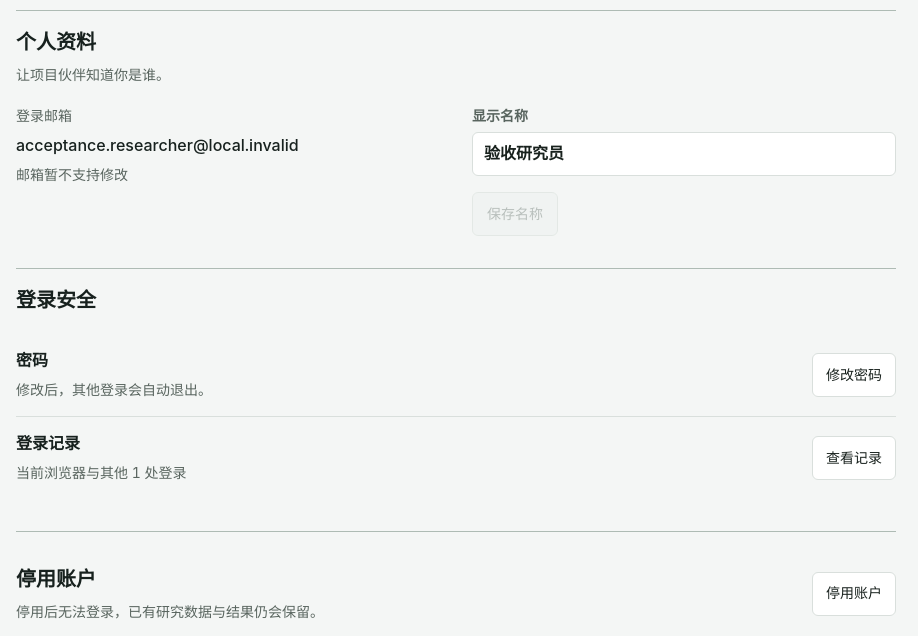
Test case: revokes a non-current session without ending the current session
Click the button "查看记录" at (854, 458), box top-left (812, 436), bottom-right (896, 480)
(page scrolled)
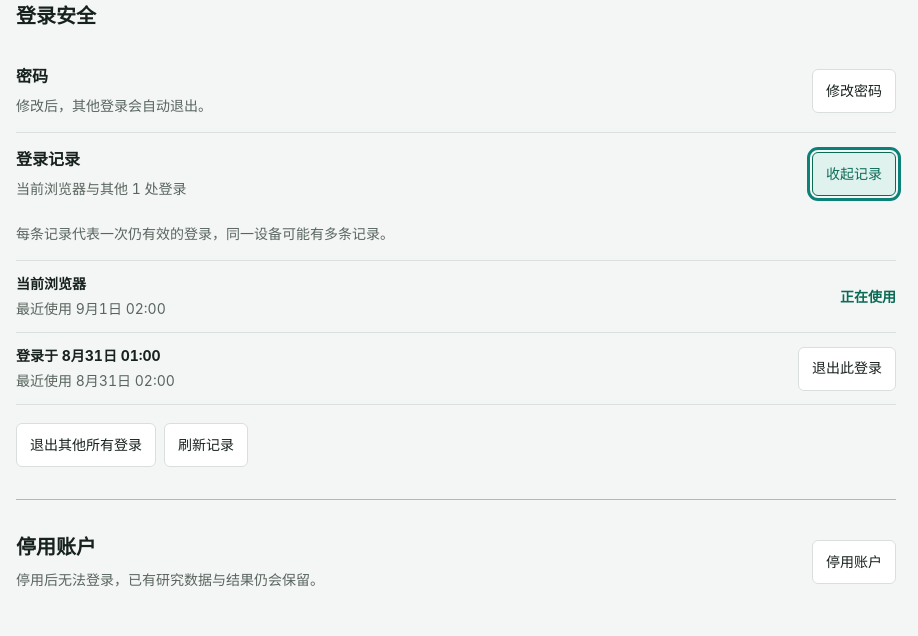
Click the button "退出此登录" at (847, 368), box top-left (798, 346), bottom-right (896, 390)
(page scrolled)
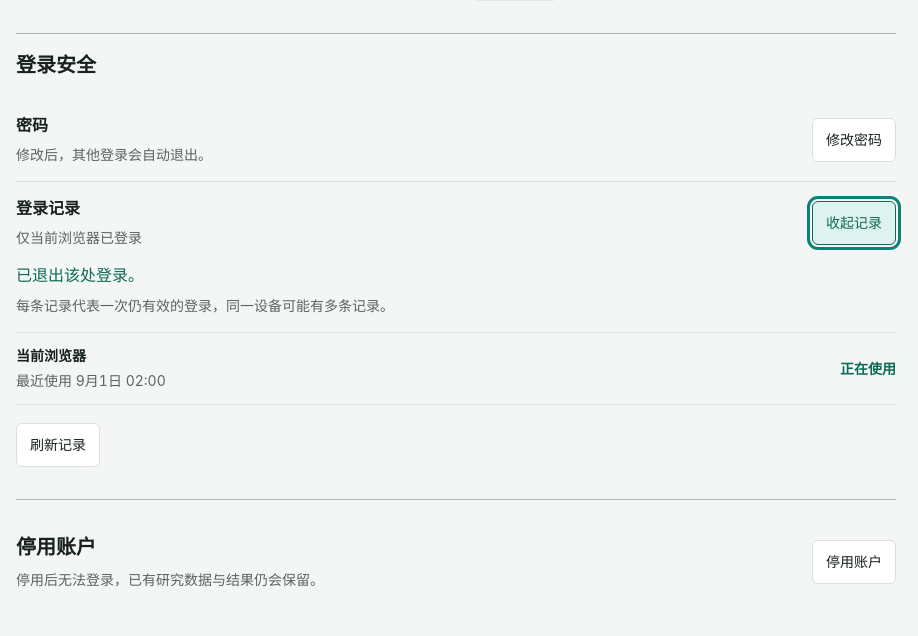
Now the text "当前浏览器" is shown, box top-left (16, 347), bottom-right (86, 364)
Now the button "退出此登录" is gone
